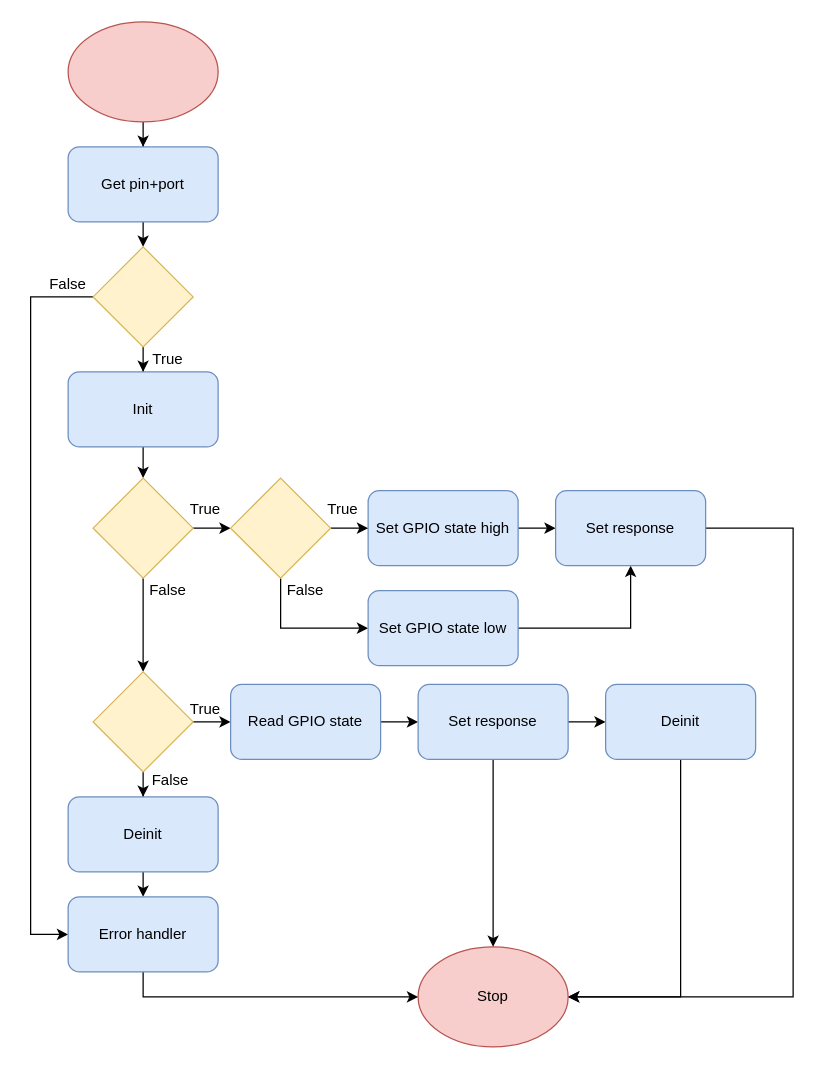
The diagram is 825 pixels wide and 1069 high, and some of its shapes have lost their labels. Each missing label, with the centre of its shape:
"direction == input?" belongs at [142,721].
"direction == output?" belongs at [142,527].
"Start" belongs at [142,71].
"state == high?" belongs at [280,527].
"Success?" belongs at [142,296].
